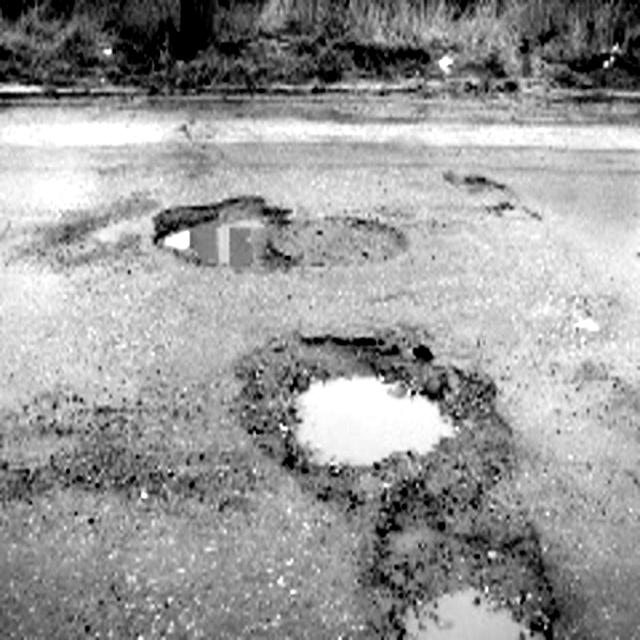pathole: (228, 329, 539, 640), (149, 183, 307, 288)
